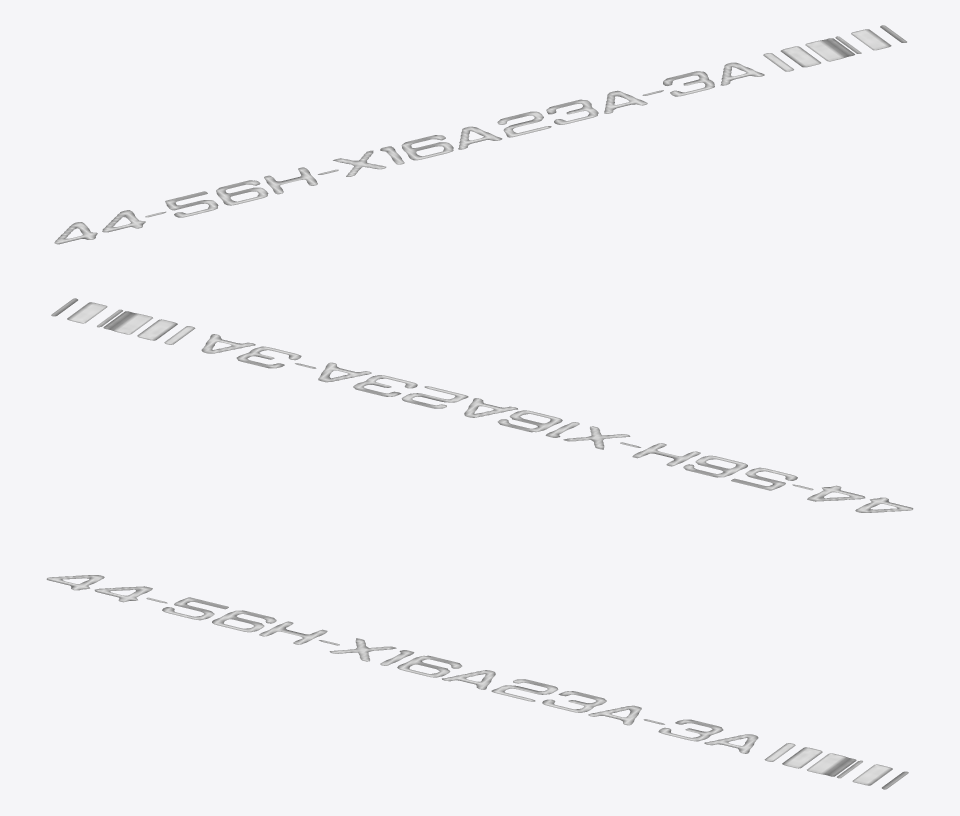
File: Decal_Code.glb
3 renders of one model, top to bottom at view 1: azimuth 30°, elevation 25°; view 2: azimuth 150°, elevation 25°; view 3: azimuth 330°, elevation 25°, orthographic.
Visible parts, largest first — view 1: Decal_Code; view 2: Decal_Code; view 3: Decal_Code.
Part boxes in pixels (x1=…): Decal_Code: x1=54, y1=25, x2=906, y2=244; Decal_Code: x1=51, y1=298, x2=913, y2=512; Decal_Code: x1=46, y1=575, x2=908, y2=789.
Bounding box in the file's own units: 2.5 × 0 × 0.1628.
1 material, 1 textured.
